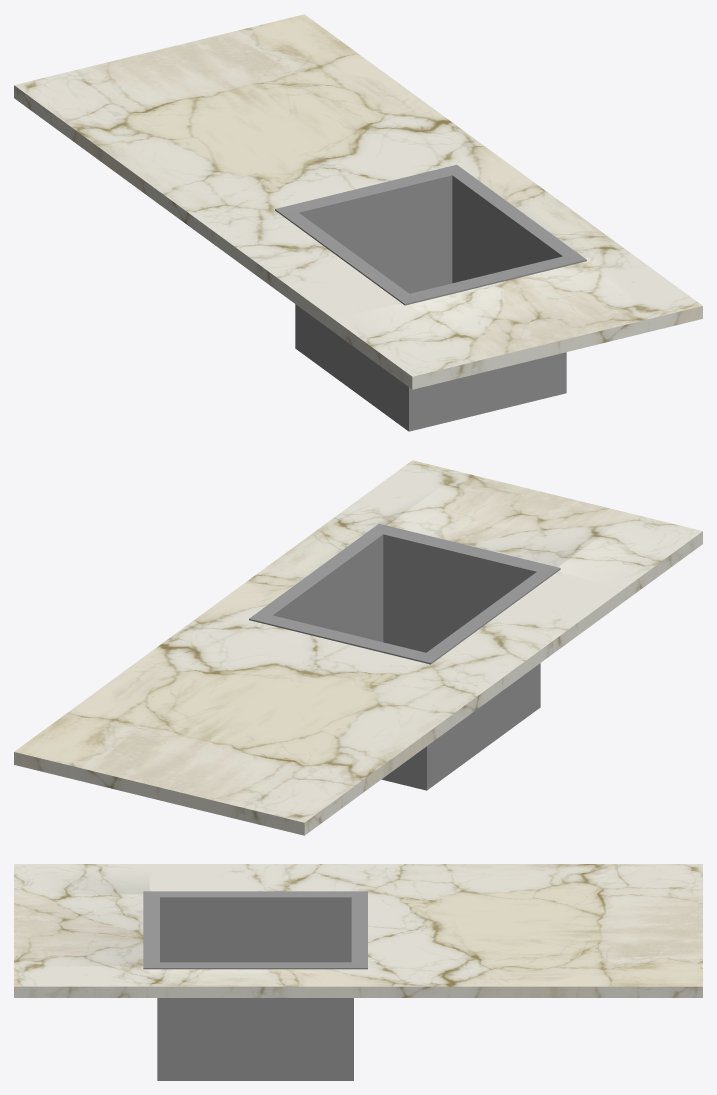
File: countertop-five.glb
3 renders of one model, top to bottom at view 1: azimuth 30°, elevation 25°; view 2: azimuth 150°, elevation 25°; view 3: azimuth 270°, elevation 25°, orthographic. The views are drawn at different scales.
Visible parts, largest first — view 1: Cube.018; view 2: Cube.018; view 3: Cube.018.
Part boxes in pixels (box(x1,y1,x2,y2)): Cube.018: box(14, 14, 702, 431); Cube.018: box(14, 460, 702, 835); Cube.018: box(14, 864, 702, 1080).
Bounding box in the file's own units: 0.4699 × 0.2109 × 1.12.
2 materials, 1 textured.
